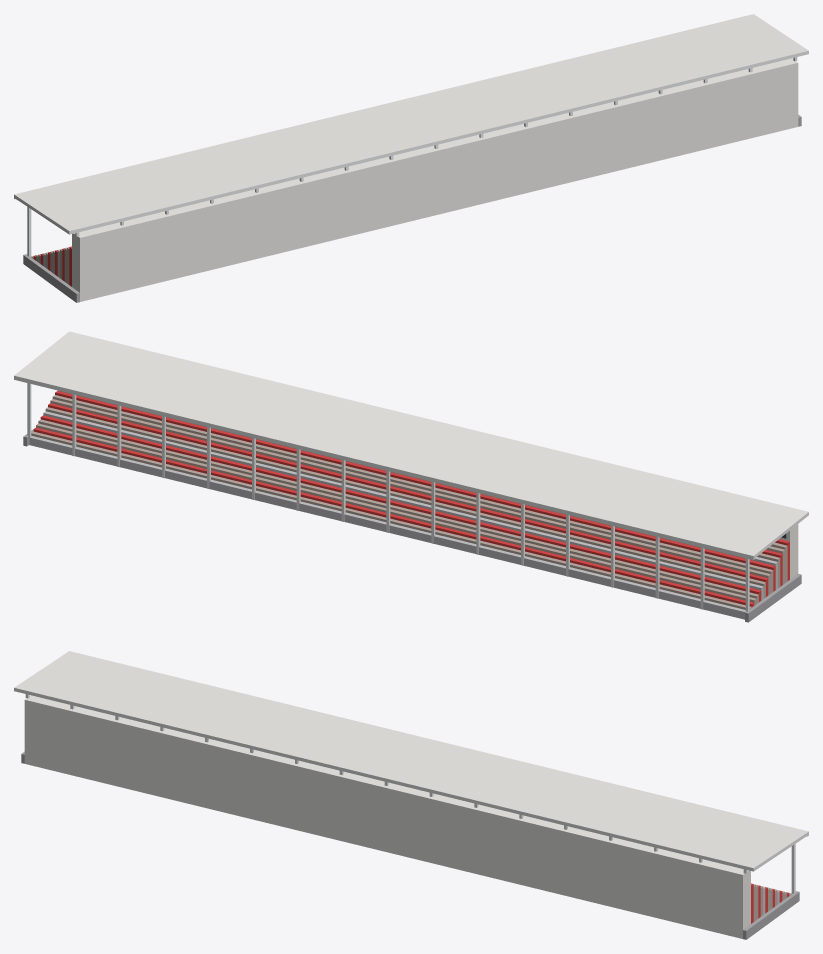
The model's file is estoril_grandstand.glb.
3 renders of one model, top to bottom at view 1: azimuth 30°, elevation 25°; view 2: azimuth 150°, elevation 25°; view 3: azimuth 330°, elevation 25°, orthographic.
Parts seen in each view (by area): view 1: stand, roof; view 2: roof, stand; view 3: stand, roof.
Part boxes in pixels (left/top/right/bottom): stand: left=23, top=58, right=801, bottom=302; roof: left=14, top=14, right=808, bottom=256; roof: left=14, top=331, right=808, bottom=611; stand: left=23, top=390, right=801, bottom=622; stand: left=21, top=695, right=799, bottom=939; roof: left=14, top=651, right=808, bottom=893.
Bounding box in the file's own units: 206 × 19.56 × 26.71.
